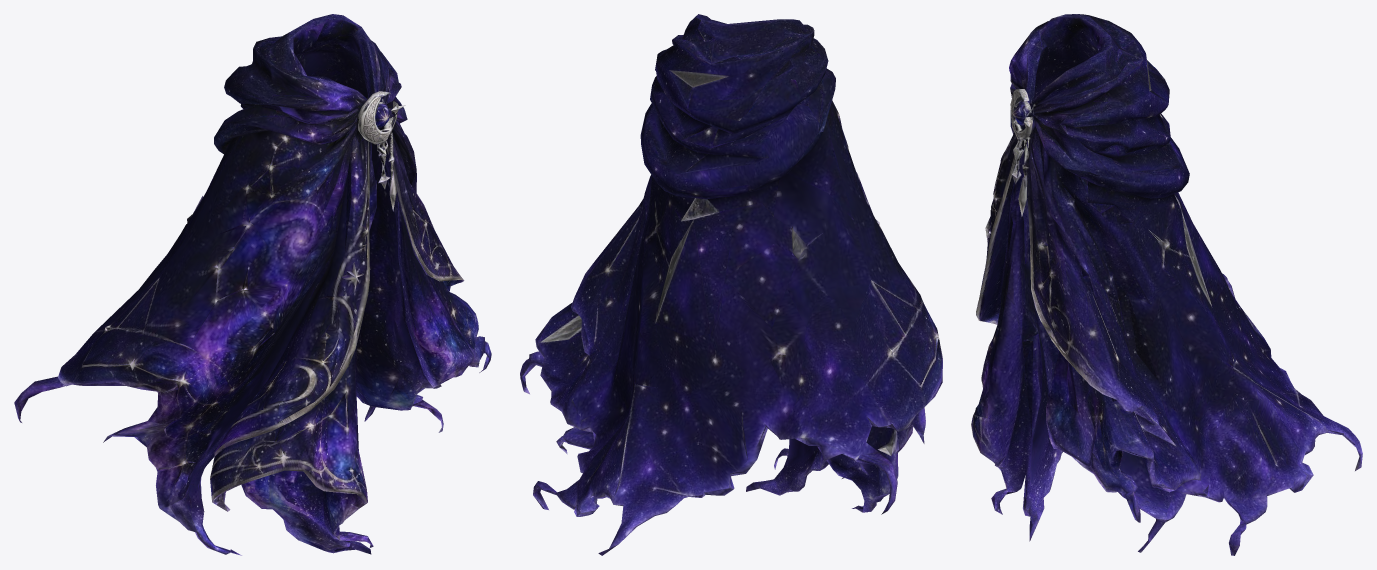
The model's file is named-voidwoven_mantle.glb.
3 renders of one model, left to right at view 1: azimuth 30°, elevation 25°; view 2: azimuth 150°, elevation 25°; view 3: azimuth 270°, elevation 25°, orthographic. The views are drawn at different scales.
Bounding box in the file's own units: 1.75 × 2 × 1.42.
1 material, 1 textured.
